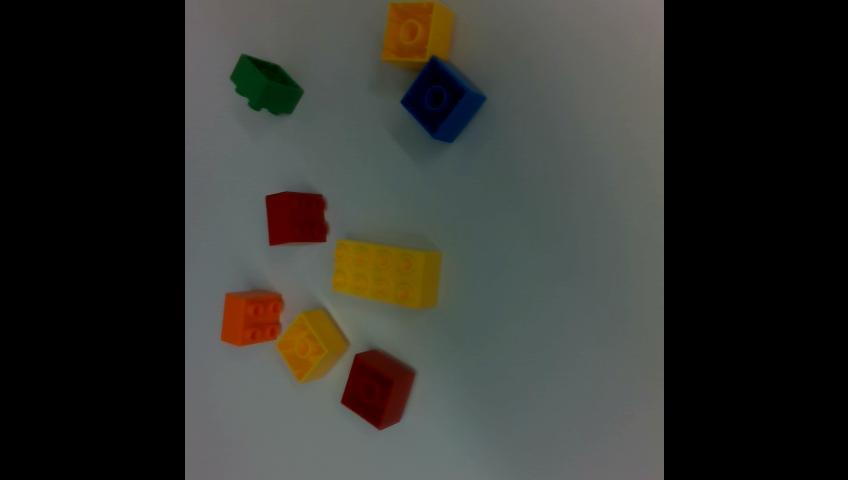2x2_blue: (400, 57, 485, 142)
2x2_green: (230, 55, 302, 115)
2x2_orange: (222, 293, 283, 346)
2x2_red: (341, 350, 414, 429), (266, 192, 325, 245)
2x2_yellow: (276, 310, 349, 383), (381, 0, 453, 70)
4x2_yellow: (334, 240, 441, 308)
